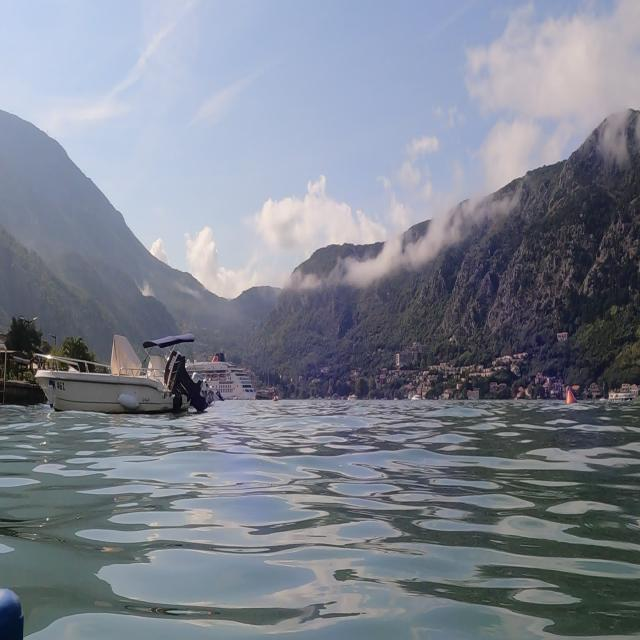boat: (33, 329, 212, 418)
buoy: (562, 381, 580, 408)
